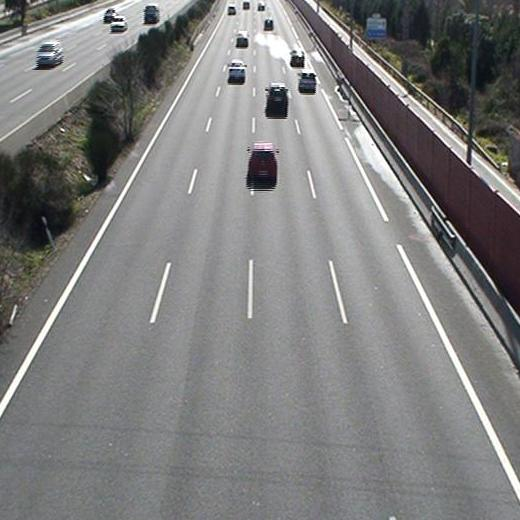car: (247, 142, 278, 188), (264, 83, 290, 108), (298, 71, 317, 92), (228, 60, 246, 81), (289, 48, 305, 67), (235, 33, 249, 47), (264, 18, 274, 30)
